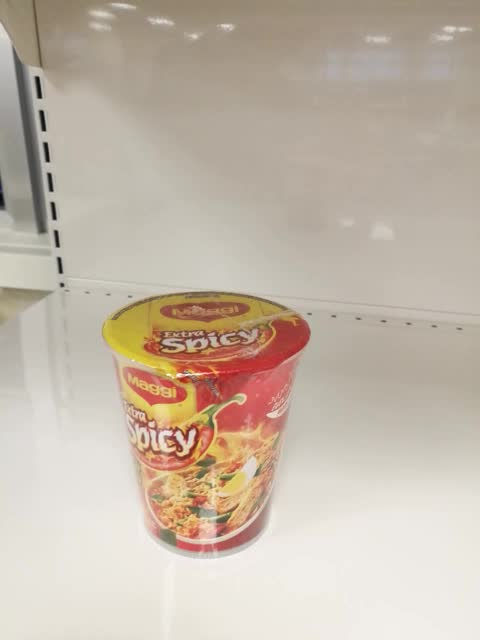maggi: (100, 291, 313, 557)
